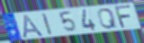4: (81, 8, 98, 32)
5: (57, 11, 78, 33)
A: (22, 14, 45, 39)
F: (114, 4, 133, 30)
I: (41, 13, 55, 36)
Q: (97, 8, 119, 30)
